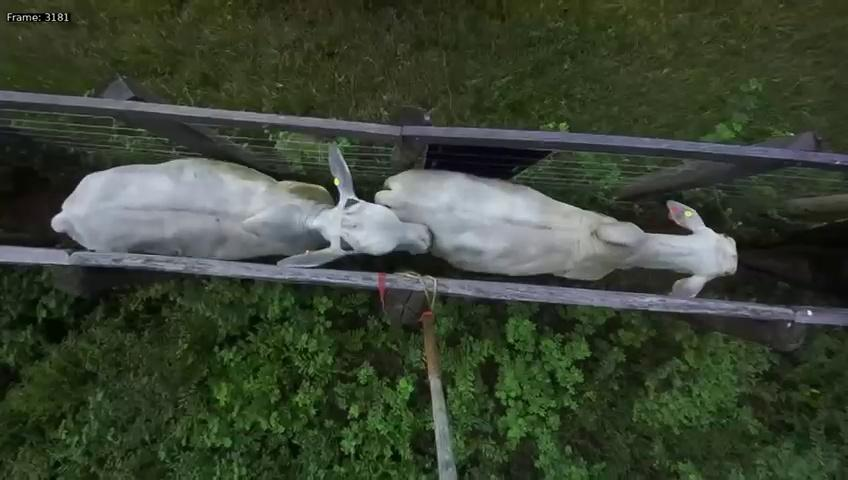cattle: (372, 159, 760, 305), (48, 136, 462, 272)
